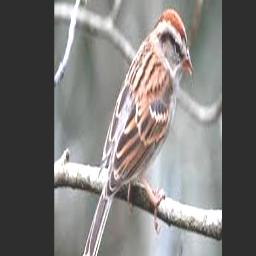Sparrow: (79, 8, 194, 256)
